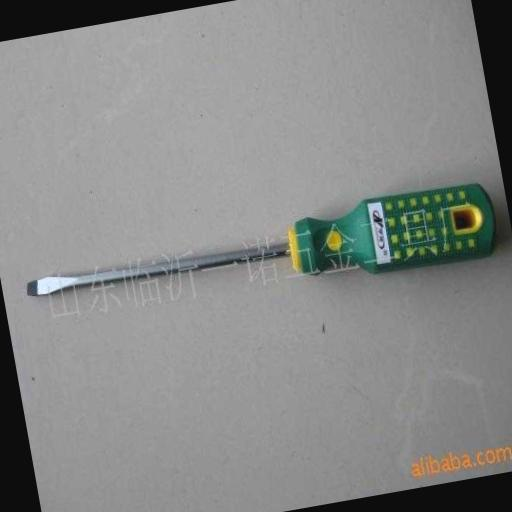screwdriver: (20, 174, 506, 338)
